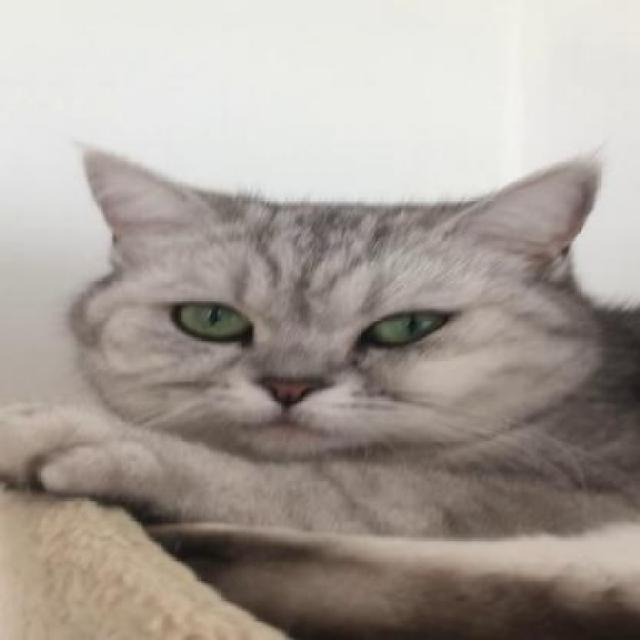cat-face: (61, 143, 614, 455)
